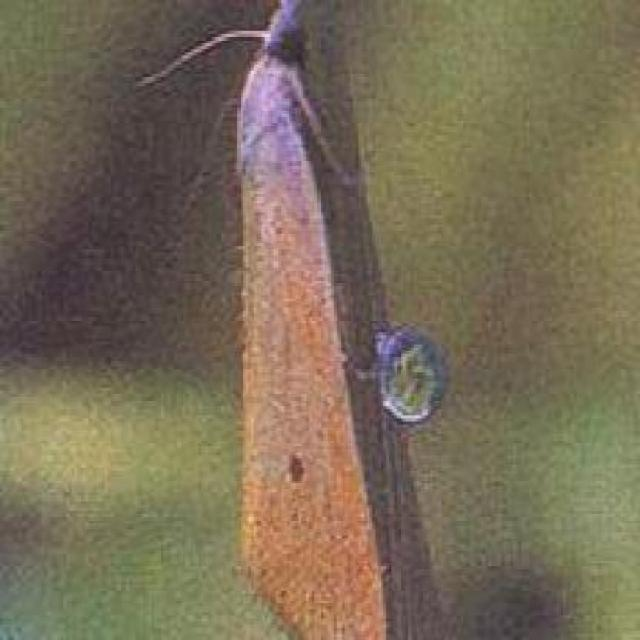stem-borer: (228, 0, 370, 640)
